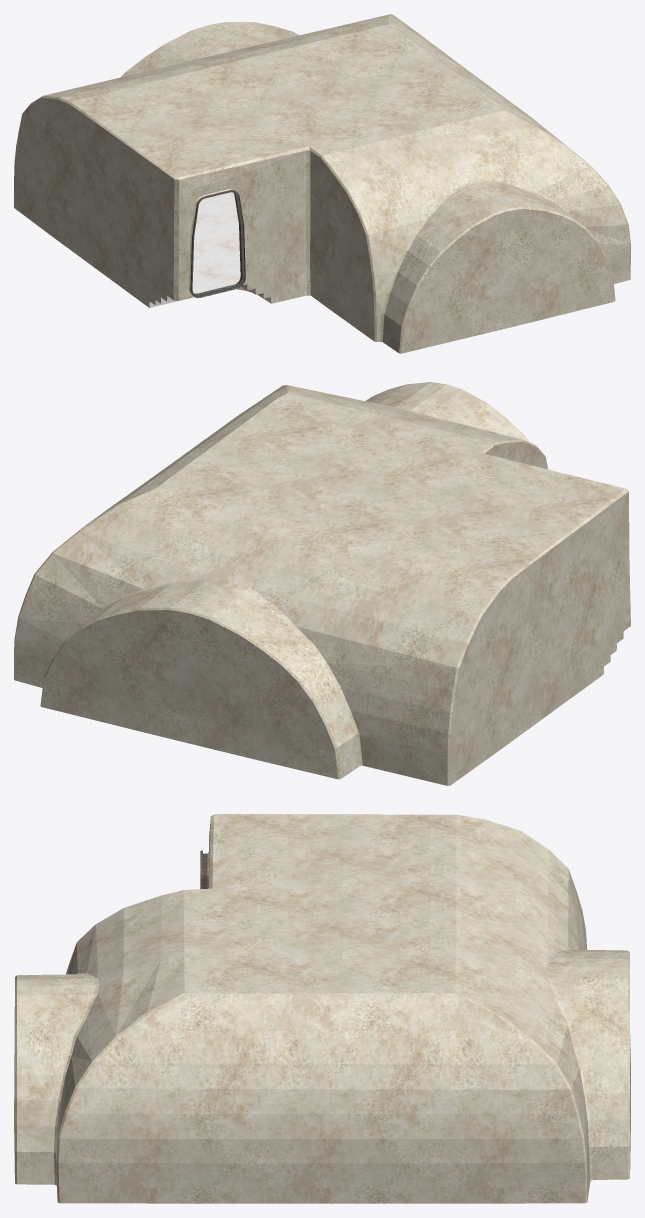
The model's file is thm_tato_assoc_hall_civ_s02_r5_livingroom2_mesh_r5.fbx.
3 renders of one model, top to bottom at view 1: azimuth 30°, elevation 25°; view 2: azimuth 150°, elevation 25°; view 3: azimuth 270°, elevation 25°, orthographic. The views are drawn at different scales.
Visible parts, largest first — view 1: mesh_node; view 2: mesh_node; view 3: mesh_node.
Part boxes in pixels (x1,y1,x2,y2): mesh_node: [14, 14, 630, 353]; mesh_node: [14, 382, 630, 785]; mesh_node: [14, 814, 630, 1203].
Size of the model in its own units: 13.09 by 4.71 by 15.44.
